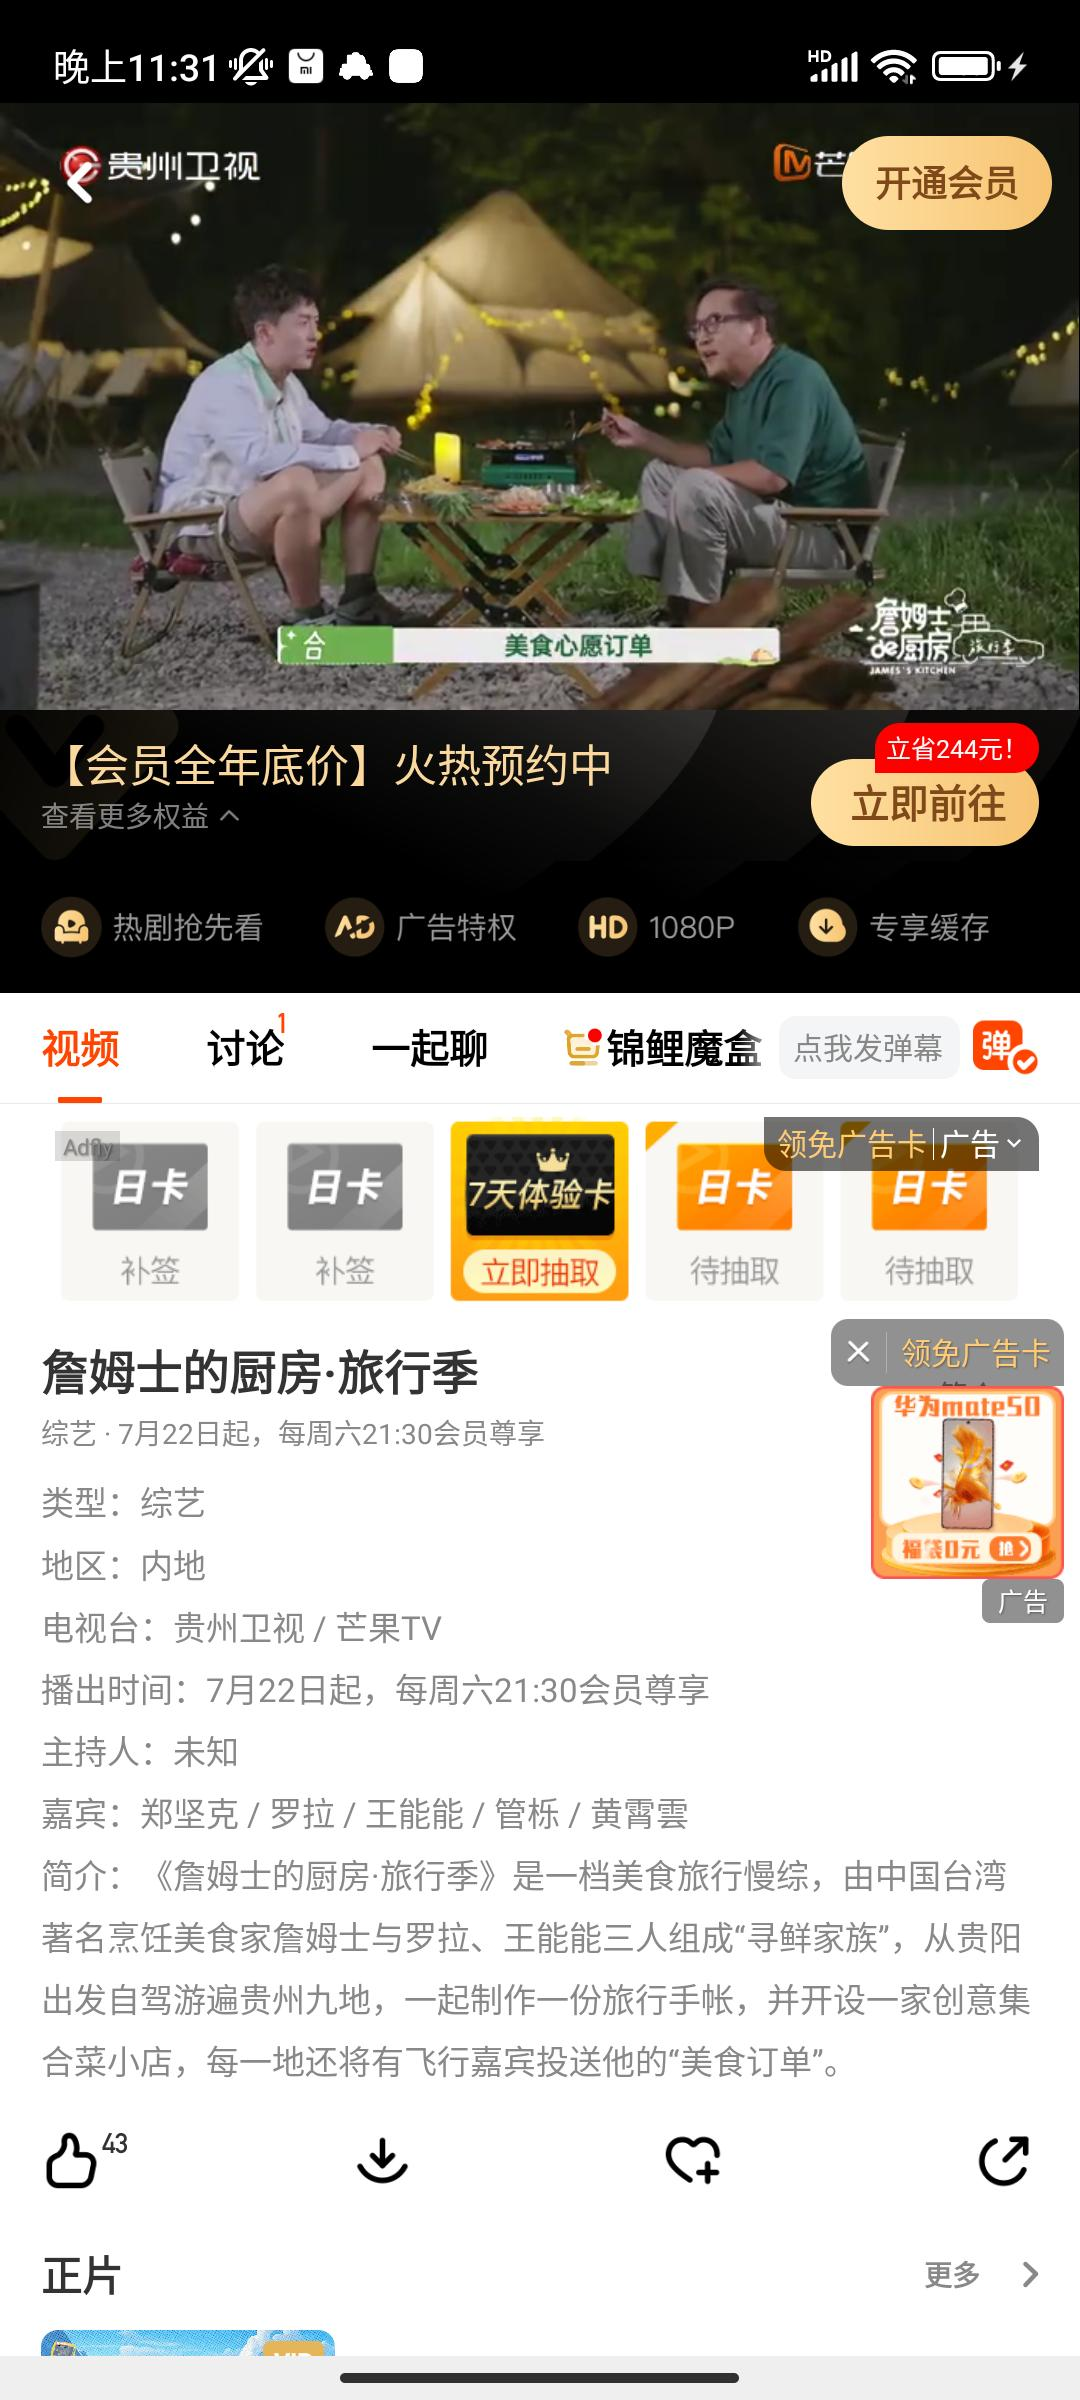ui_group: (2, 709, 1080, 987), (31, 1113, 1048, 1322), (828, 1322, 1080, 1635)
